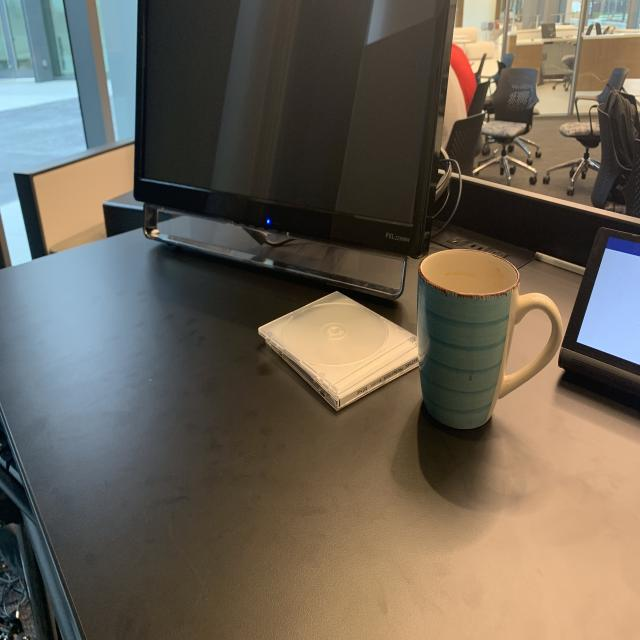Cup: (415, 243, 563, 436)
